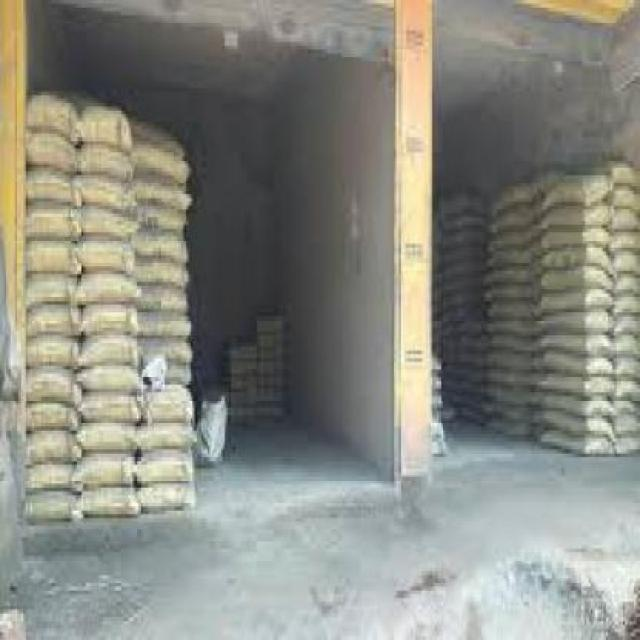gunny_bag: (21, 227, 83, 278), (21, 94, 80, 143), (69, 106, 132, 151), (63, 452, 143, 486), (21, 367, 84, 410), (25, 429, 84, 470), (20, 486, 82, 525), (76, 422, 141, 459), (128, 122, 188, 162), (75, 175, 133, 216), (75, 143, 130, 186), (28, 332, 80, 376), (79, 233, 133, 275), (23, 305, 81, 344), (78, 302, 137, 340), (73, 273, 137, 308), (27, 132, 79, 175), (135, 448, 197, 484), (74, 484, 141, 517), (72, 394, 138, 427), (130, 148, 187, 186), (23, 168, 77, 208), (140, 475, 195, 514), (81, 337, 137, 375), (22, 405, 82, 440), (139, 422, 200, 456), (78, 363, 142, 394), (81, 205, 132, 243), (26, 462, 81, 497), (137, 333, 192, 368), (139, 278, 192, 313), (26, 206, 80, 240), (22, 278, 79, 310), (136, 230, 188, 265), (137, 183, 194, 213), (140, 392, 193, 422), (137, 260, 186, 290), (137, 211, 187, 240), (140, 311, 188, 341), (142, 359, 190, 389)
